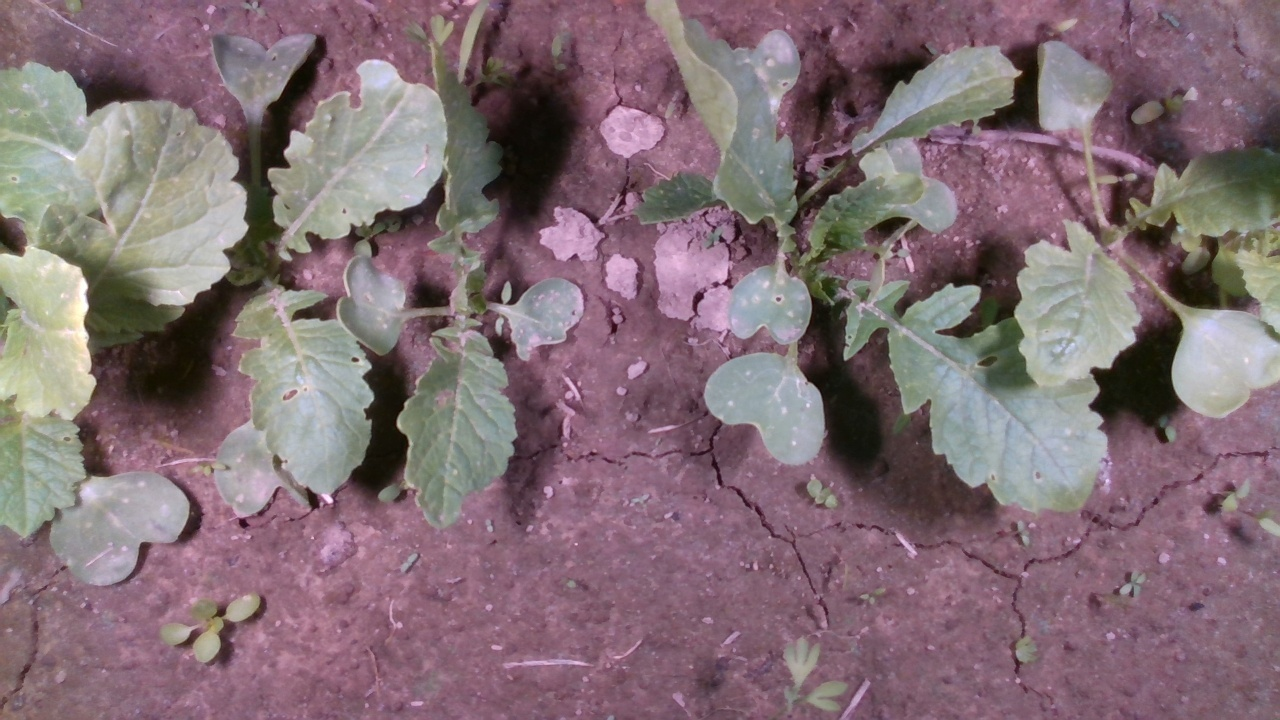weed: (157, 589, 262, 667), (806, 477, 839, 511), (1118, 567, 1147, 600), (855, 586, 887, 608), (1157, 413, 1178, 443), (1014, 517, 1031, 549)
